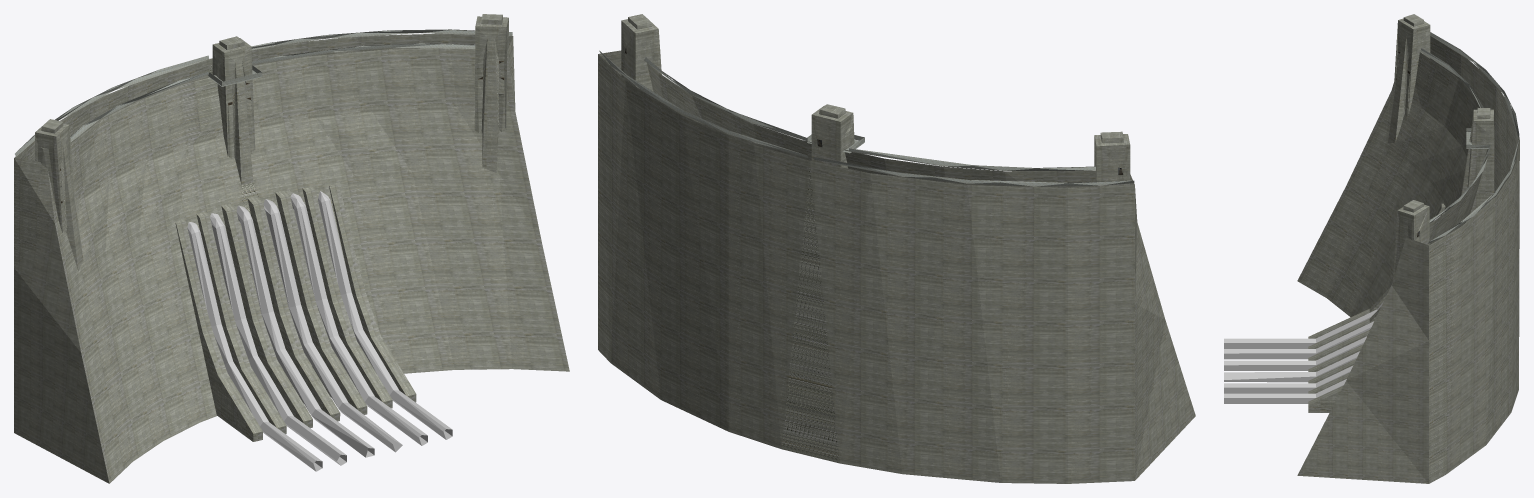
The model's file is Building_2_LOD03.fbx.
3 renders of one model, left to right at view 1: azimuth 30°, elevation 25°; view 2: azimuth 150°, elevation 25°; view 3: azimuth 270°, elevation 25°, orthographic. The views are drawn at different scales.
Visible parts, largest first — view 1: Building_2_LOD03; view 2: Building_2_LOD03; view 3: Building_2_LOD03.
Part boxes in pixels (x1,y1,x2,y2): Building_2_LOD03: (14,14,569,483); Building_2_LOD03: (598,14,1195,483); Building_2_LOD03: (1224,14,1519,483).
Size of the model in its own units: 170 by 100 by 101.
